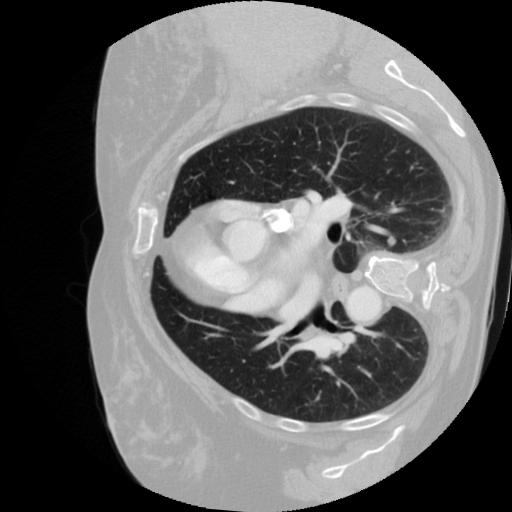nodule: (385, 233, 400, 248)
